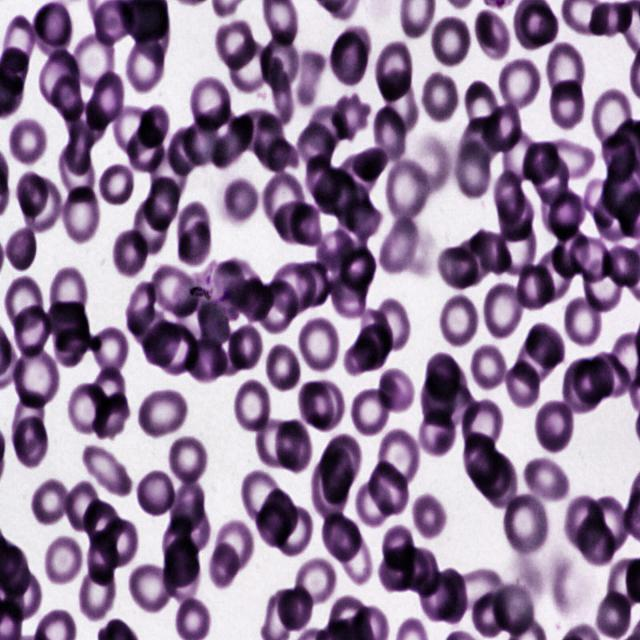red blood cell: (294, 107, 348, 169), (11, 346, 60, 411), (376, 210, 422, 279), (502, 491, 549, 558), (421, 374, 478, 428), (384, 160, 431, 221), (482, 278, 526, 342), (328, 23, 371, 88), (82, 442, 132, 497), (373, 38, 414, 105), (296, 314, 340, 376), (138, 388, 188, 442), (561, 357, 606, 417), (163, 501, 211, 557), (260, 174, 306, 232), (189, 74, 232, 136), (497, 55, 541, 115), (128, 560, 175, 616), (379, 427, 422, 488), (593, 89, 633, 154), (320, 508, 364, 567), (38, 49, 82, 108), (60, 182, 101, 245), (71, 30, 115, 88), (150, 265, 198, 318), (546, 40, 586, 103), (125, 35, 167, 95), (594, 186, 639, 242), (241, 471, 285, 528), (512, 0, 559, 53), (336, 520, 374, 585), (270, 262, 316, 315), (86, 69, 124, 133), (292, 556, 336, 611), (229, 40, 273, 95), (31, 1, 74, 57), (533, 397, 575, 454), (588, 495, 630, 552), (438, 292, 479, 350), (12, 301, 52, 360), (430, 14, 472, 70), (212, 113, 254, 169), (520, 457, 570, 504), (581, 256, 622, 313), (232, 378, 272, 436), (382, 68, 417, 134), (493, 577, 532, 636), (480, 104, 526, 154), (368, 460, 409, 516), (47, 267, 88, 323), (216, 517, 256, 574), (31, 476, 74, 529), (462, 397, 504, 451), (320, 434, 361, 489), (212, 17, 256, 68), (168, 434, 208, 490), (420, 69, 460, 125), (142, 175, 182, 231), (313, 458, 349, 520), (328, 90, 370, 143), (416, 404, 458, 457), (254, 113, 291, 173), (454, 140, 492, 198), (565, 497, 605, 552), (113, 106, 157, 156), (256, 418, 300, 468), (48, 302, 92, 352), (136, 468, 178, 520), (68, 382, 110, 434), (543, 138, 595, 180), (23, 176, 62, 232), (516, 333, 558, 385), (498, 219, 536, 276), (8, 115, 48, 168), (468, 230, 514, 276), (43, 534, 82, 588), (81, 500, 123, 550), (156, 324, 198, 374), (316, 166, 358, 216), (498, 190, 536, 245), (12, 389, 43, 456), (435, 565, 469, 626), (474, 6, 511, 62), (274, 507, 313, 560), (595, 587, 634, 640), (147, 150, 186, 203), (570, 235, 612, 284), (264, 342, 302, 396), (78, 566, 116, 620), (262, 35, 298, 92), (452, 237, 493, 287), (330, 267, 370, 318), (535, 250, 574, 302), (220, 172, 258, 225), (402, 546, 440, 599), (562, 296, 602, 346), (375, 368, 415, 418), (133, 198, 168, 255), (482, 453, 517, 510), (471, 446, 510, 497), (89, 328, 132, 374), (4, 571, 42, 623), (348, 387, 389, 435), (6, 277, 43, 330), (503, 129, 538, 185), (548, 190, 587, 240), (461, 82, 500, 132), (126, 124, 165, 174), (258, 282, 297, 332), (374, 298, 410, 352), (66, 483, 102, 537), (98, 159, 136, 210), (63, 100, 107, 144), (185, 338, 228, 383), (574, 356, 614, 404), (86, 530, 119, 588), (100, 518, 138, 568), (277, 420, 312, 474), (2, 15, 34, 74), (58, 148, 95, 199), (333, 182, 372, 230), (464, 433, 502, 482), (553, 229, 591, 278), (374, 103, 407, 159), (590, 354, 632, 398), (462, 116, 504, 160), (93, 1, 134, 46), (142, 320, 182, 366), (171, 480, 205, 534), (305, 153, 341, 204), (583, 177, 619, 228), (360, 307, 394, 361), (306, 382, 345, 429), (517, 262, 555, 310), (421, 572, 456, 624), (355, 322, 392, 371), (526, 322, 565, 368), (182, 116, 219, 164), (113, 228, 149, 277), (167, 127, 203, 176), (534, 156, 570, 205), (578, 516, 614, 565), (438, 246, 479, 289), (316, 231, 357, 274), (178, 202, 210, 257), (13, 418, 48, 468), (236, 276, 274, 322), (507, 357, 541, 408), (298, 381, 334, 429), (164, 538, 200, 586), (262, 488, 298, 536), (92, 395, 130, 440), (358, 480, 394, 527), (298, 49, 326, 109), (129, 308, 168, 351), (494, 170, 525, 224), (164, 556, 202, 600), (550, 80, 584, 129), (50, 73, 84, 122), (278, 586, 314, 632), (296, 261, 332, 307), (602, 134, 635, 184), (64, 120, 94, 174), (126, 282, 156, 336), (378, 550, 414, 595), (425, 352, 459, 399), (473, 591, 507, 638), (14, 171, 48, 217), (412, 492, 446, 538), (382, 524, 416, 570), (273, 200, 309, 243), (256, 504, 292, 547), (524, 141, 559, 185), (587, 4, 635, 36), (472, 345, 506, 390), (92, 367, 126, 412), (341, 248, 377, 290), (227, 326, 262, 369), (210, 542, 240, 592), (6, 226, 38, 272), (290, 202, 322, 248), (136, 105, 169, 149), (345, 200, 382, 239), (198, 301, 230, 346), (179, 222, 211, 265), (56, 326, 90, 366), (354, 147, 389, 180)
trophozoite: (178, 259, 241, 323)
